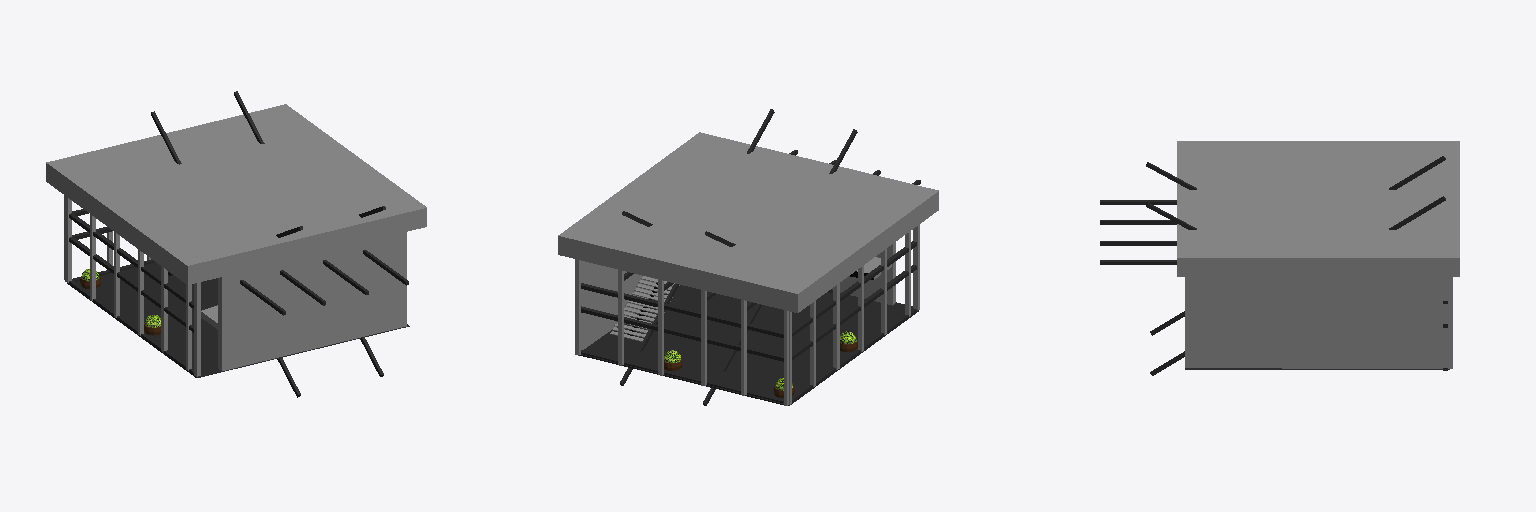
3 renders of one model, left to right at view 1: azimuth 30°, elevation 25°; view 2: azimuth 150°, elevation 25°; view 3: azimuth 270°, elevation 25°, orthographic.
Parts seen in each view (by area): view 1: Box059, Box002, Plane001, Box060, Box054, Box055, Box052, Box051, Box047; view 2: Box059, Plane001, Box001, Box056, Box053, Box061, Box002, Box060, Box054, Box055, Box066, Box068 (+7 smaller); view 3: Box059, Box001.
Part boxes in pixels (left/top/right/bottom): Box059: left=46, top=104, right=426, bottom=284; Box002: left=218, top=232, right=404, bottom=370; Plane001: left=76, top=262, right=409, bottom=377; Box060: left=67, top=280, right=198, bottom=377; Box054: left=69, top=236, right=193, bottom=332; Box055: left=69, top=213, right=193, bottom=308; Box052: left=194, top=282, right=200, bottom=376; Box051: left=65, top=196, right=71, bottom=282; Box047: left=161, top=266, right=167, bottom=352; Box059: left=558, top=132, right=938, bottom=312; Plane001: left=581, top=285, right=912, bottom=403; Box001: left=581, top=261, right=671, bottom=349; Box056: left=581, top=283, right=783, bottom=337; Box053: left=581, top=306, right=783, bottom=361; Box061: left=579, top=350, right=783, bottom=404; Box002: left=832, top=242, right=895, bottom=305; Box060: left=788, top=308, right=918, bottom=405; Box054: left=792, top=265, right=916, bottom=359; Box055: left=792, top=241, right=916, bottom=336; Box066: left=620, top=109, right=774, bottom=385; Box068: left=703, top=129, right=857, bottom=405; Box059: left=1177, top=141, right=1459, bottom=276; Box001: left=1185, top=277, right=1451, bottom=368.
Bounding box in the file's own units: 182 × 130 × 236.
Materials: 5 (1 with a texture image).